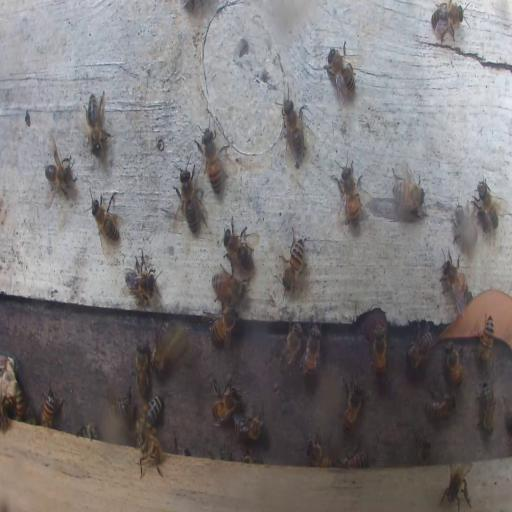nonpollenbee: (172, 162, 205, 232), (280, 84, 306, 160), (324, 44, 358, 102), (336, 156, 363, 228), (122, 252, 158, 305), (472, 169, 501, 234), (441, 251, 471, 312), (88, 193, 122, 246), (44, 140, 75, 198), (84, 88, 110, 157), (441, 460, 474, 511), (222, 220, 256, 269), (392, 166, 427, 213), (149, 324, 186, 368), (199, 124, 222, 194), (281, 230, 305, 294), (430, 2, 466, 40), (406, 324, 434, 370), (453, 204, 481, 250), (342, 378, 366, 430), (209, 303, 239, 344), (211, 268, 247, 302), (138, 431, 162, 478), (211, 382, 239, 422), (424, 388, 456, 422), (280, 322, 302, 370), (302, 322, 320, 380), (234, 408, 264, 442), (478, 380, 495, 436), (135, 341, 151, 398), (445, 343, 463, 389), (371, 323, 386, 376), (477, 316, 494, 362), (109, 390, 133, 420), (337, 444, 368, 467), (306, 438, 330, 467), (42, 388, 56, 428), (416, 434, 431, 464), (76, 422, 98, 440)
pollenbee: (135, 396, 163, 438)
